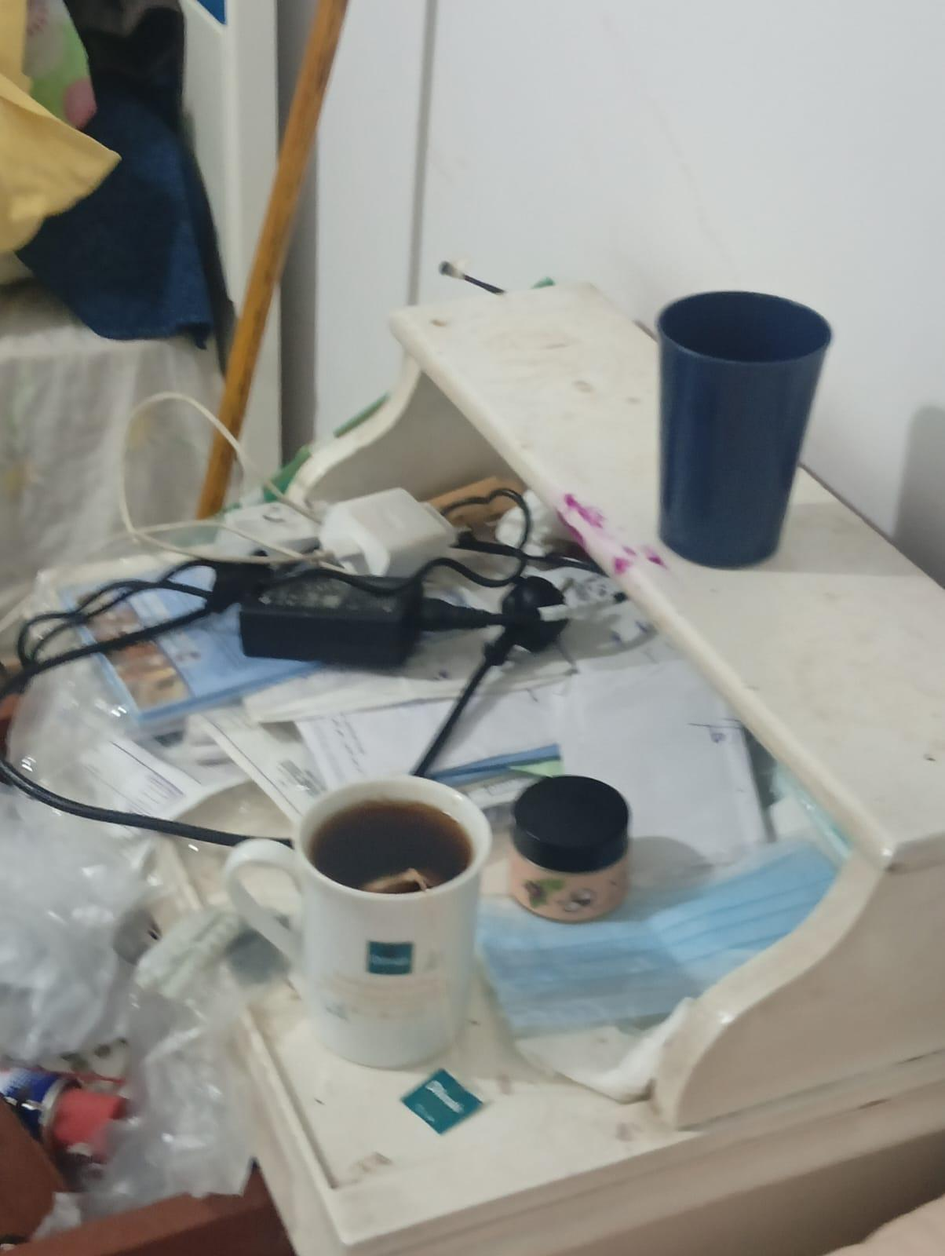cup: (223, 776, 492, 1068), (656, 291, 831, 568), (293, 776, 483, 908), (657, 290, 832, 367)
